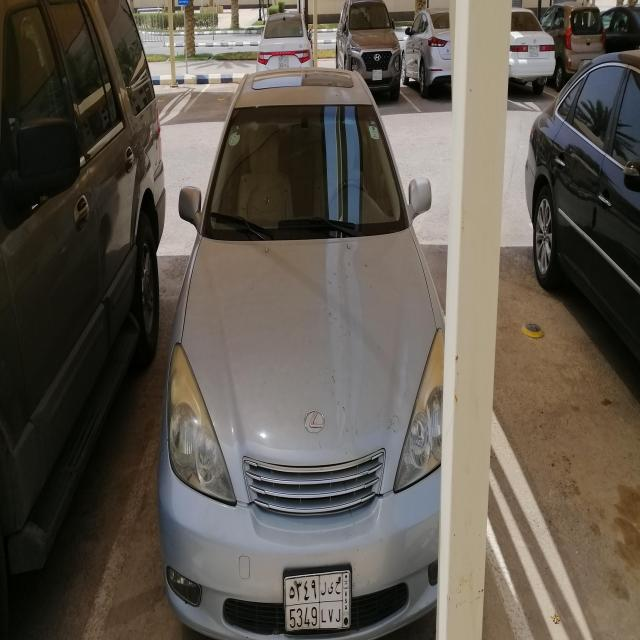license_plate: (283, 570, 352, 631)
